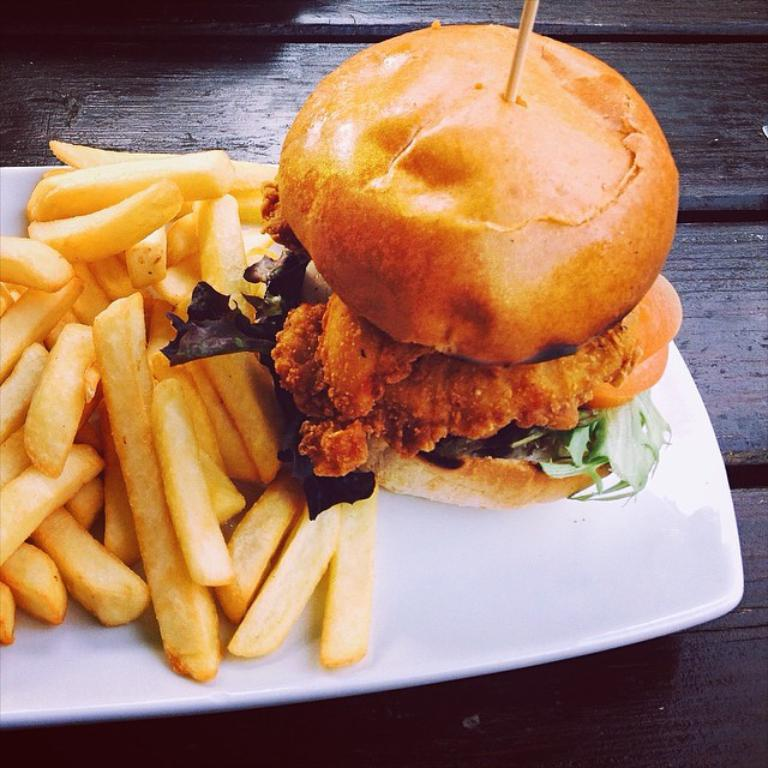French fries: (0, 138, 378, 687)
